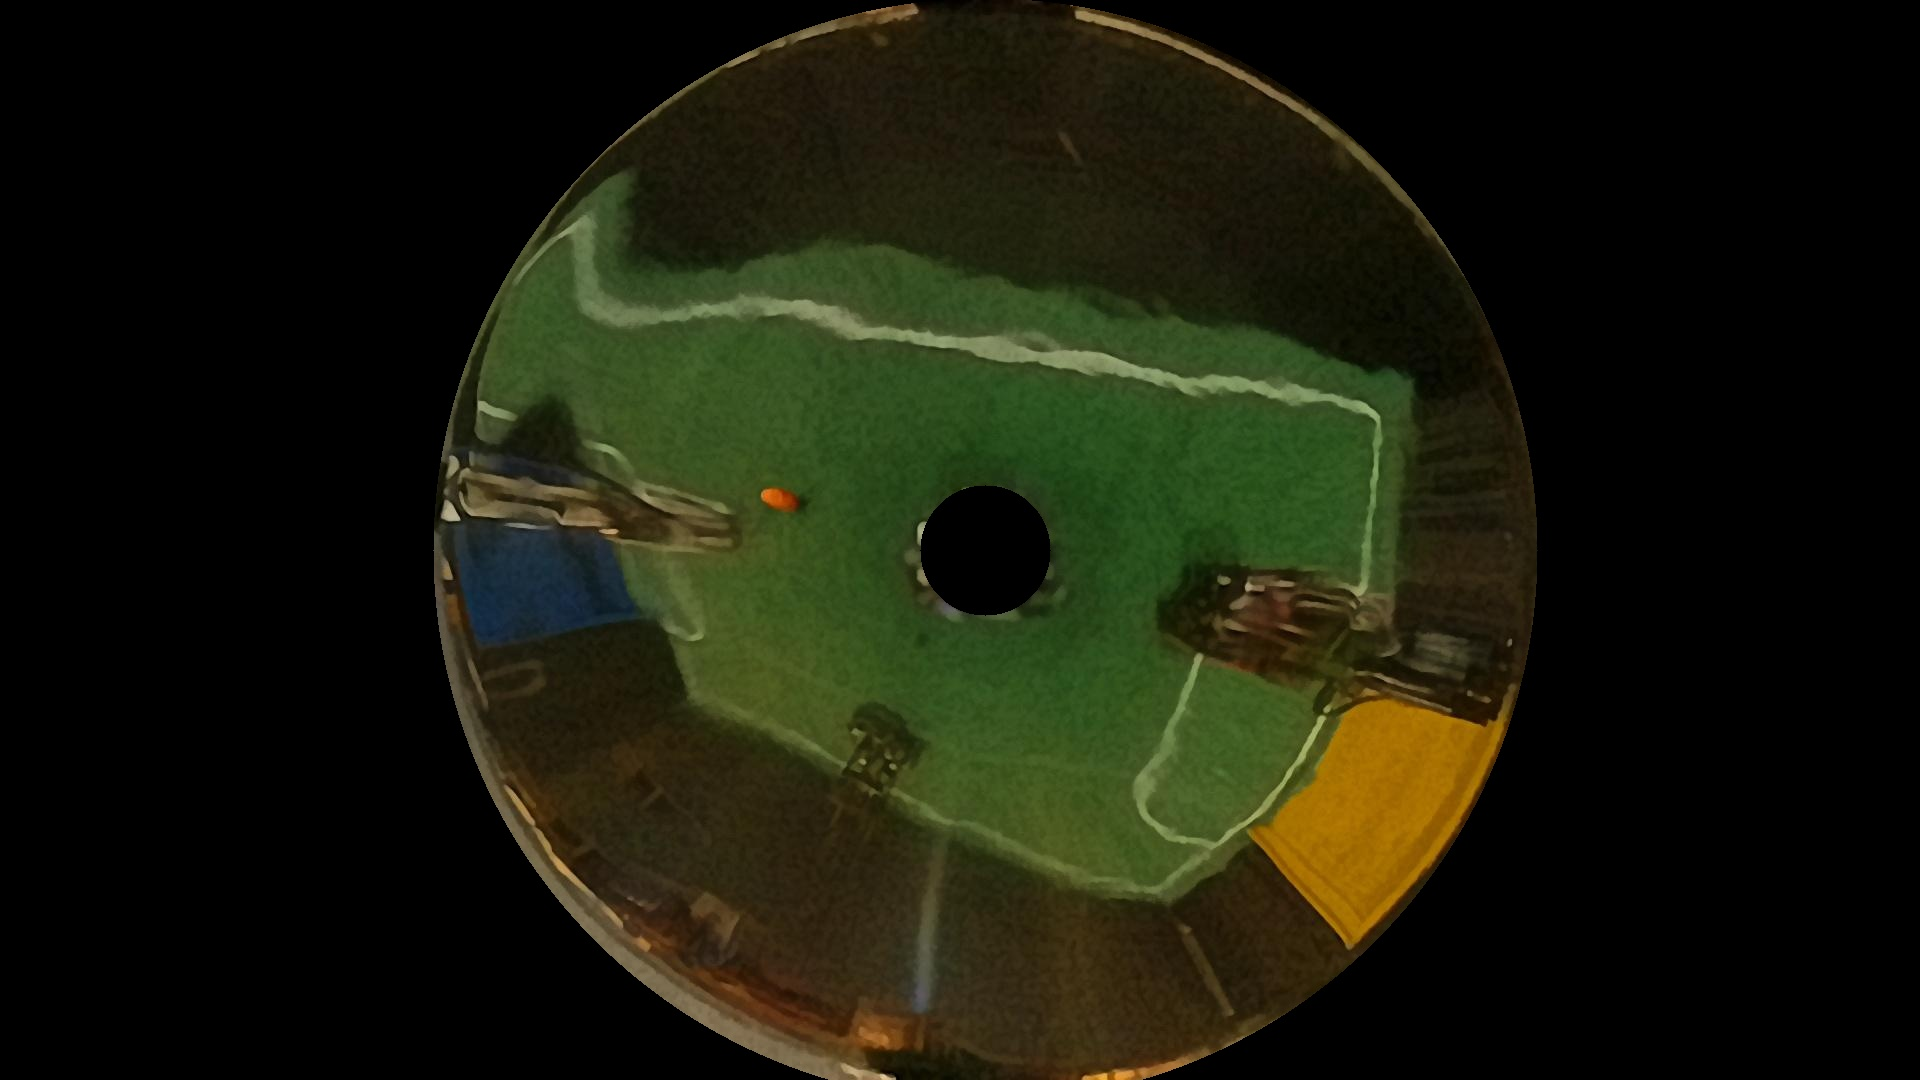ball: (756, 472, 794, 524)
blue-goal: (467, 475, 611, 653)
robots: (1175, 535, 1491, 724), (444, 456, 732, 563), (812, 716, 898, 870)
yellow-goal: (1282, 625, 1491, 940)
